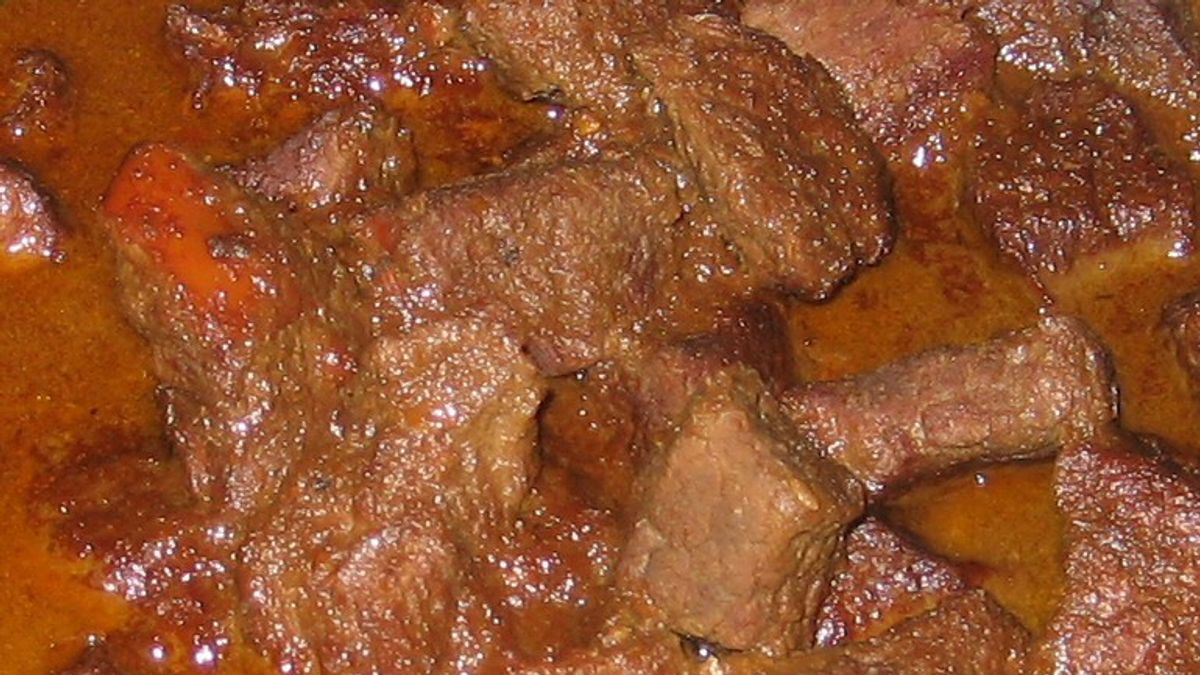rendang: (2, 10, 1191, 675)
